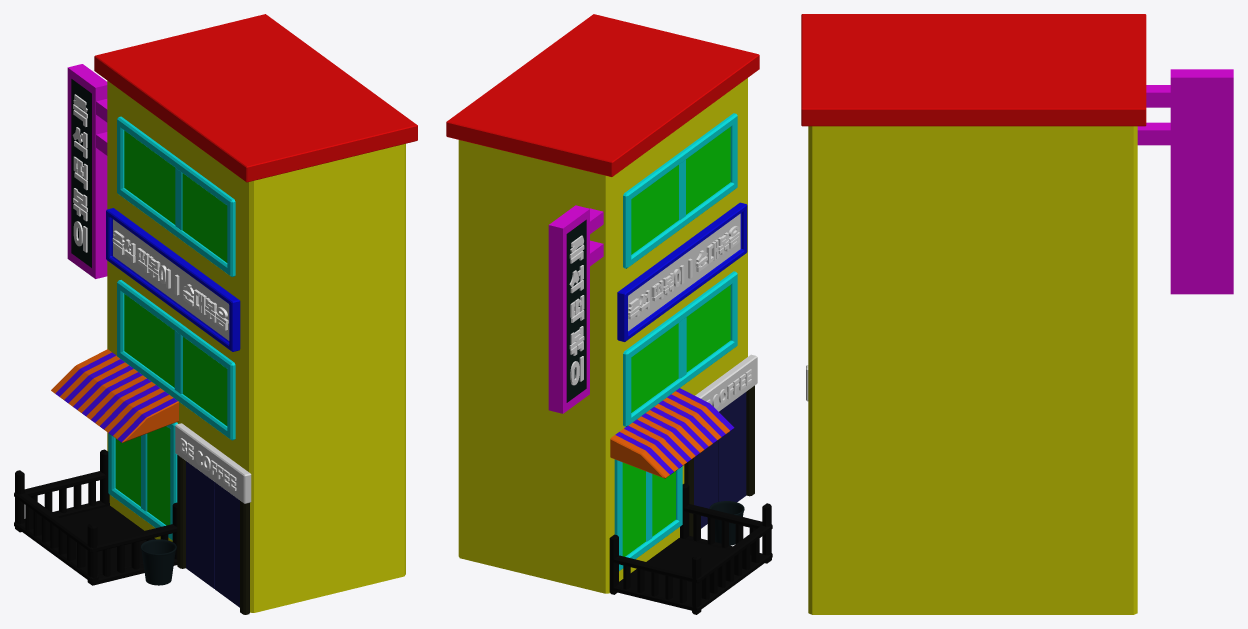
File: Building_3_3.fbx
3 renders of one model, left to right at view 1: azimuth 30°, elevation 25°; view 2: azimuth 150°, elevation 25°; view 3: azimuth 270°, elevation 25°, orthographic. The views are drawn at different scales.
Parts seen in each view (by area): view 1: polySurface1485, polySurface1472, polySurface1454, polySurface1460, typeMesh25, typeMesh27, typeMesh26; view 2: polySurface1485, polySurface1472, polySurface1454, typeMesh25, typeMesh27, polySurface1460, typeMesh26; view 3: polySurface1485, polySurface1472.
Part boxes in pixels (box(x1,y1,x2,y2)): polySurface1485: box(14, 14, 417, 614); polySurface1472: box(67, 64, 107, 278); polySurface1454: box(106, 208, 240, 351); polySurface1460: box(175, 423, 251, 503); typeMesh25: box(112, 230, 228, 330); typeMesh27: box(72, 94, 87, 252); typeMesh26: box(180, 438, 236, 490); polySurface1485: box(446, 14, 772, 614); polySurface1472: box(548, 205, 589, 413); polySurface1454: box(617, 202, 747, 341); typeMesh25: box(628, 226, 739, 319); typeMesh27: box(569, 235, 584, 385); polySurface1460: box(695, 354, 757, 411); typeMesh26: box(706, 369, 751, 408); polySurface1485: box(801, 14, 1170, 614); polySurface1472: box(1170, 69, 1233, 294).
Bounding box in the file's own units: 147 × 247 × 190.
